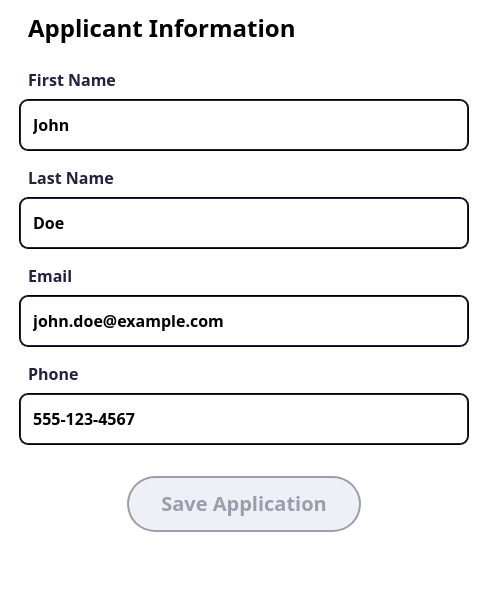
ApplicationForm › Form Submission › shows error message after failed submission
Replace the text in the field labelled "First Name" with "Updated Name". click: [244, 125]
box: [20, 100, 468, 150]
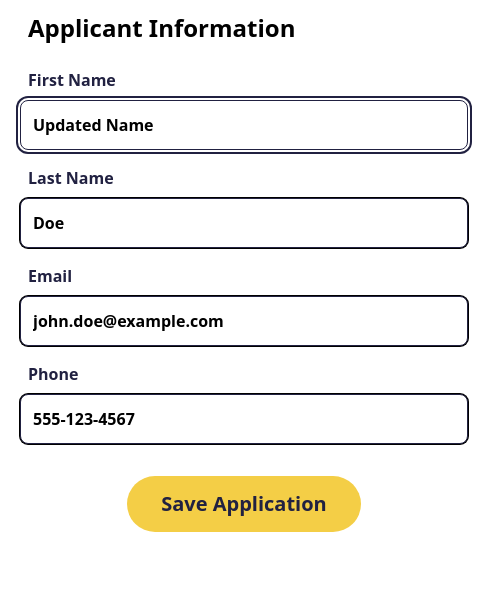
Click the button "Save Application". click: [244, 504]
box: [127, 476, 361, 532]
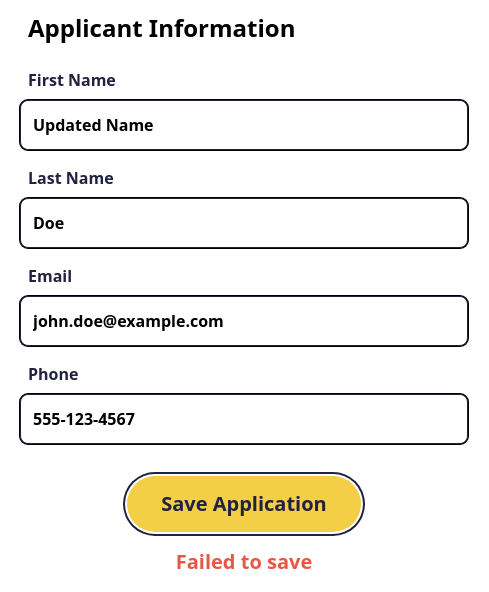
Now the text "Failed to save" is shown, box [176, 548, 312, 575]
